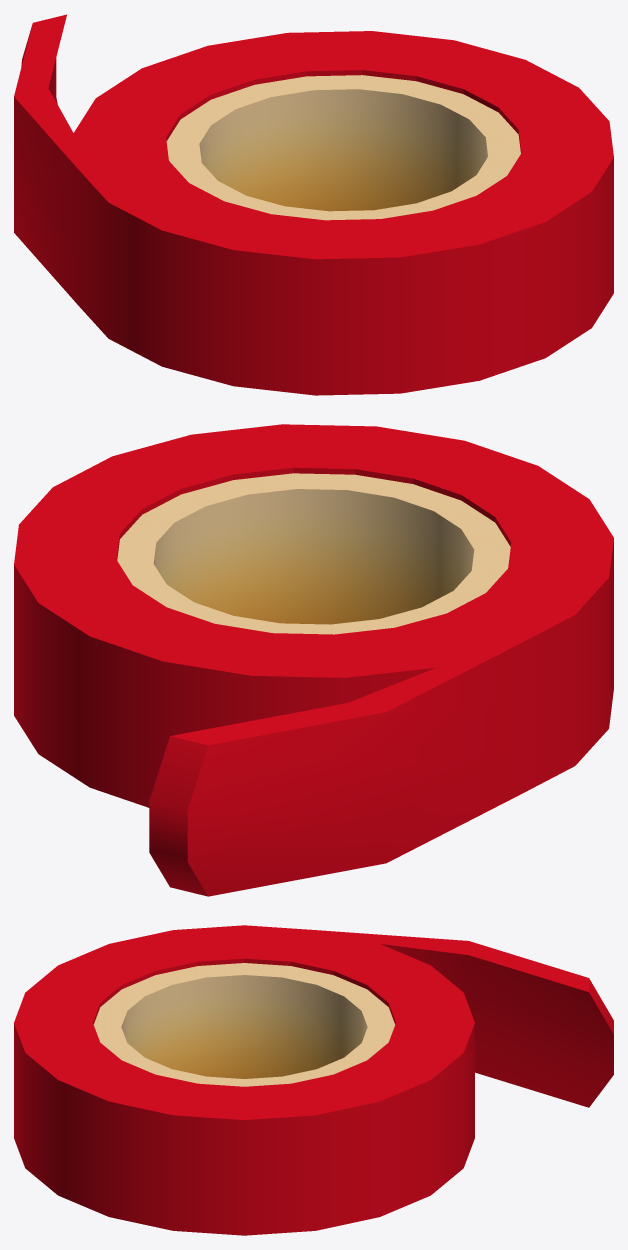
The model's file is tape.fbx.
3 views of the same model, one above another, from view 1: azimuth 30°, elevation 25°; view 2: azimuth 150°, elevation 25°; view 3: azimuth 270°, elevation 25° (orthographic). The views are drawn at different scales.
Parts seen in each view (by area): view 1: tape; view 2: tape; view 3: tape.
Part boxes in pixels (box(x1,y1,x2,y2)): tape: box(14, 14, 613, 395); tape: box(14, 424, 613, 896); tape: box(14, 925, 613, 1235).
Size of the model in its own units: 2.64 by 0.7312 by 3.44.
